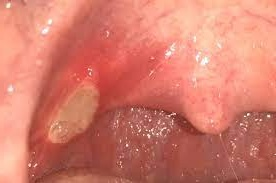Ulcer: (50, 75, 101, 148)
